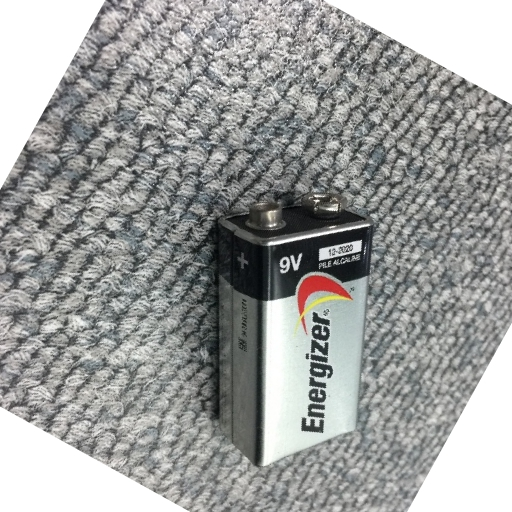Battery_3: (201, 164, 389, 483)
